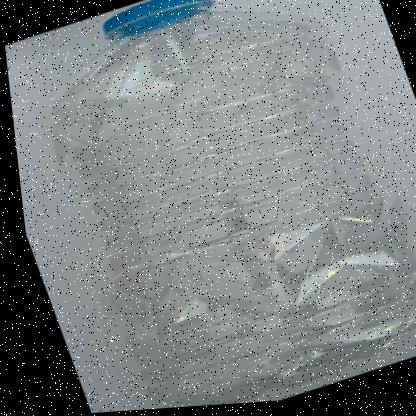bottle cap: (1, 1, 396, 148)
